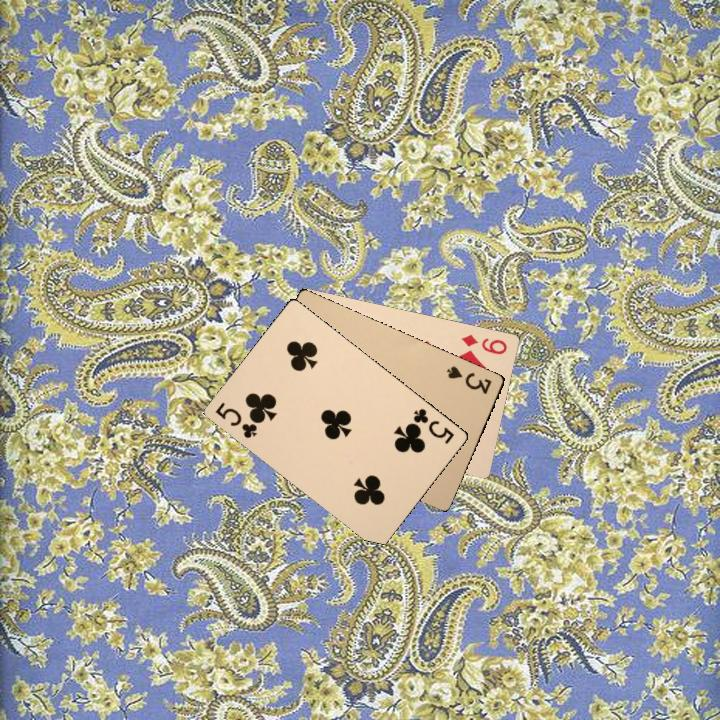3s: (442, 362, 494, 396)
5c: (408, 404, 457, 447), (211, 398, 260, 441)
9d: (457, 330, 510, 357)
